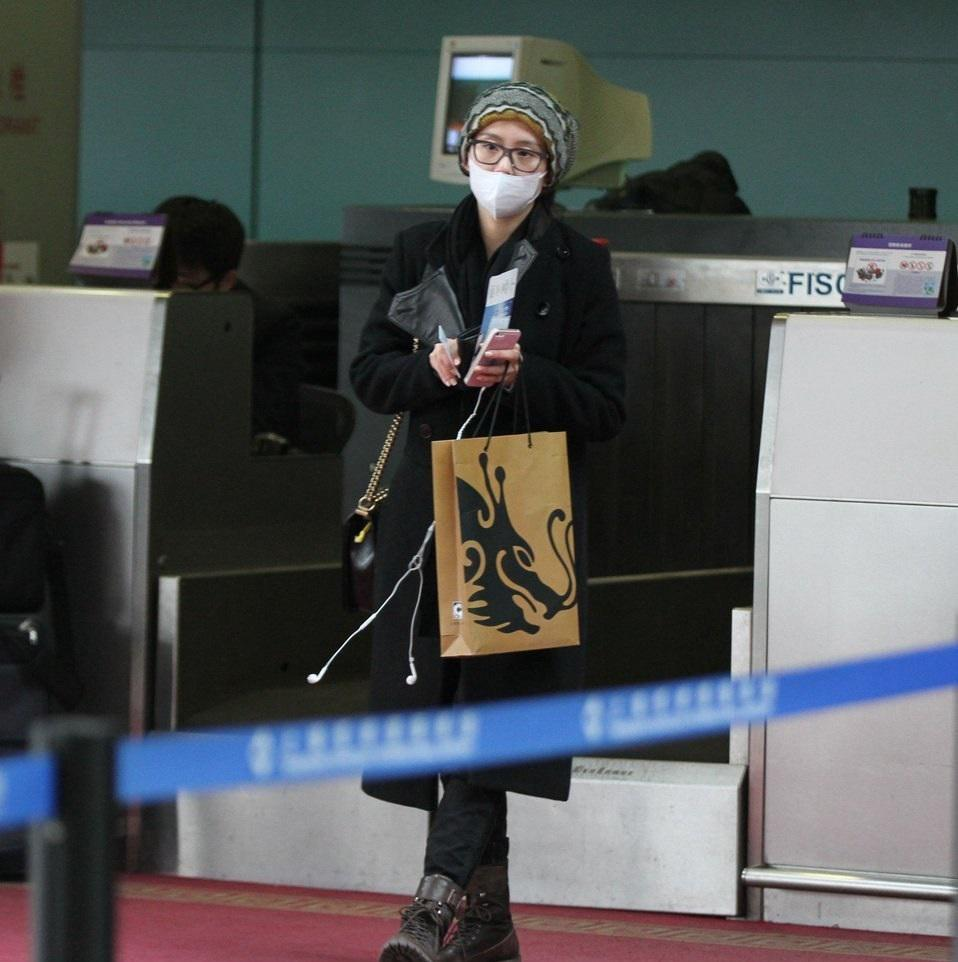WRONG: (467, 127, 546, 206)
